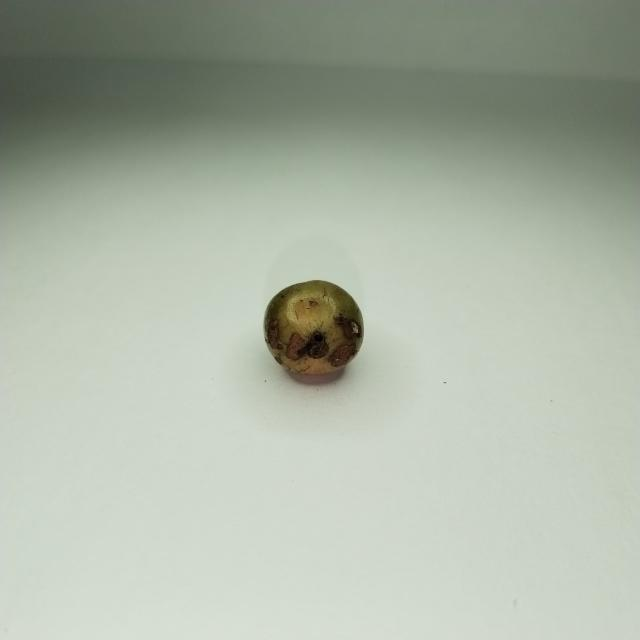Infectado: (264, 280, 363, 382)
